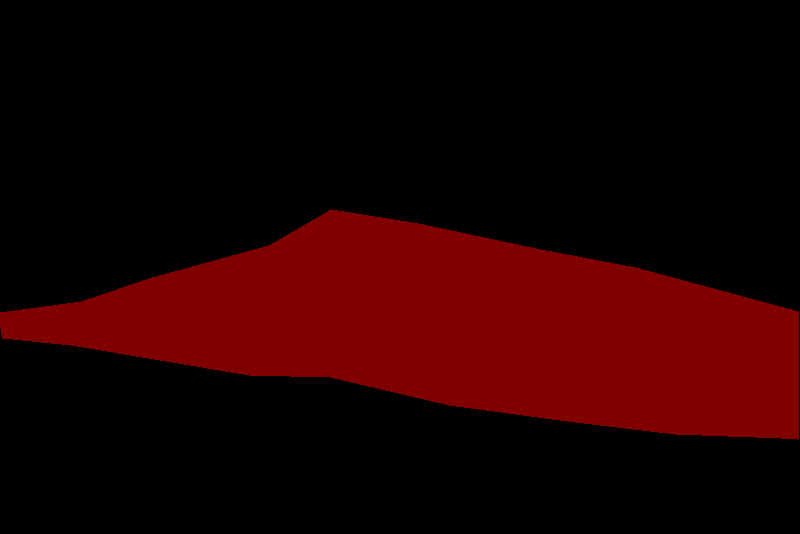fire: (0, 209, 798, 439)
